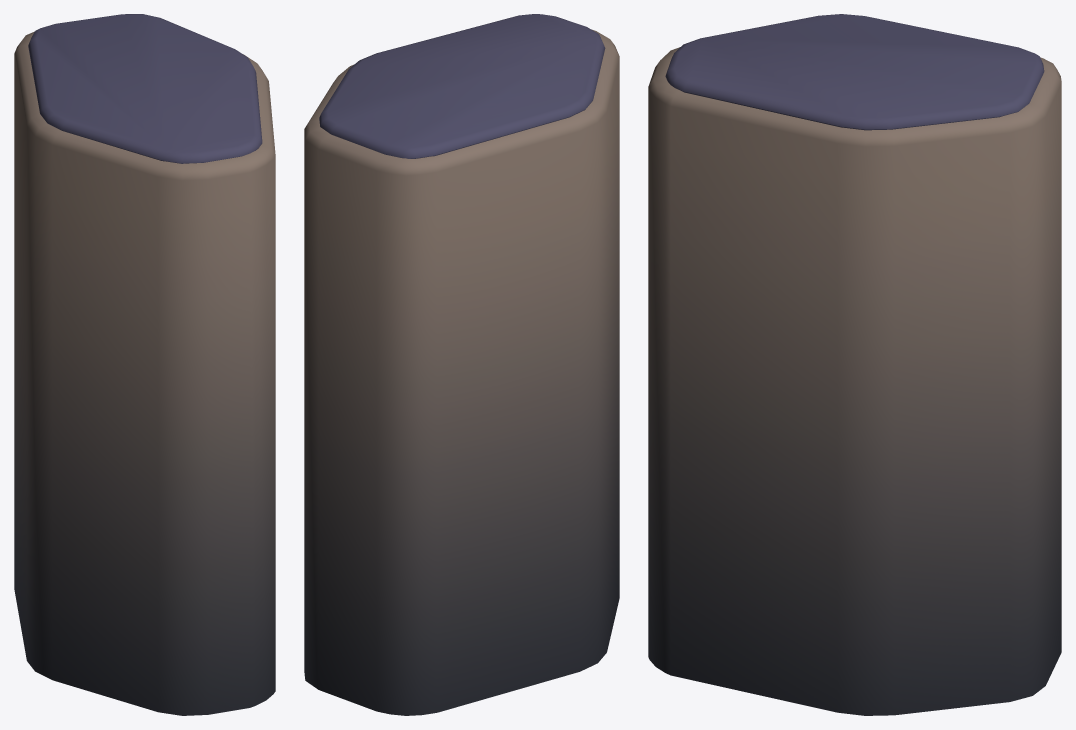
Rendered from NightRock2.fbx.
3 views of the same model, side by side, from view 1: azimuth 30°, elevation 25°; view 2: azimuth 150°, elevation 25°; view 3: azimuth 270°, elevation 25° (orthographic). The views are drawn at different scales.
Parts seen in each view (by area): view 1: Rock2.007; view 2: Rock2.007; view 3: Rock2.007.
Part boxes in pixels (box(x1,y1,x2,y2)): Rock2.007: box(14, 14, 275, 715); Rock2.007: box(304, 14, 619, 715); Rock2.007: box(648, 14, 1061, 715).
Bounding box in the file's own units: 858 × 1903 × 1213.
